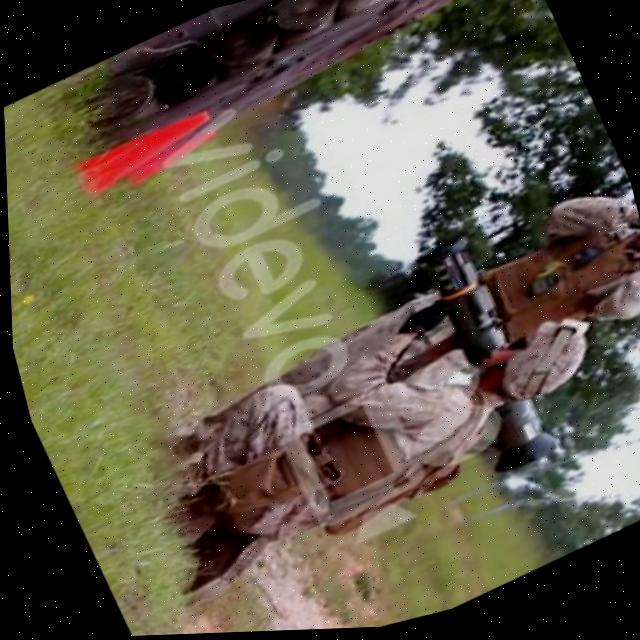rocket: (397, 223, 563, 490)
